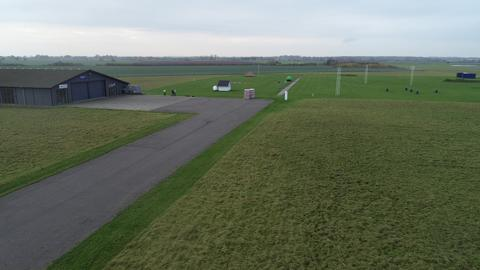RockwoolPallet: (249, 88, 256, 101)
